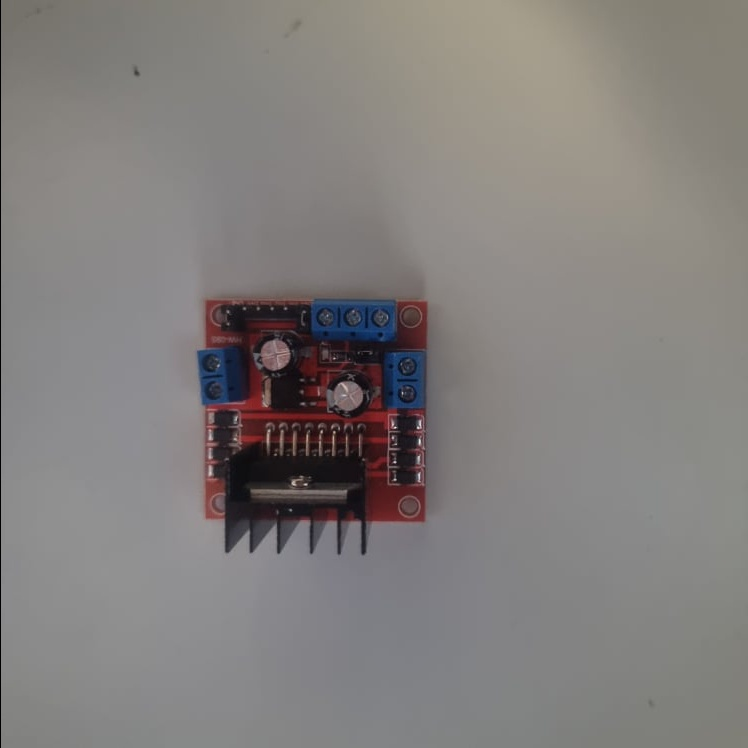MOTOR: (193, 299, 429, 557)
